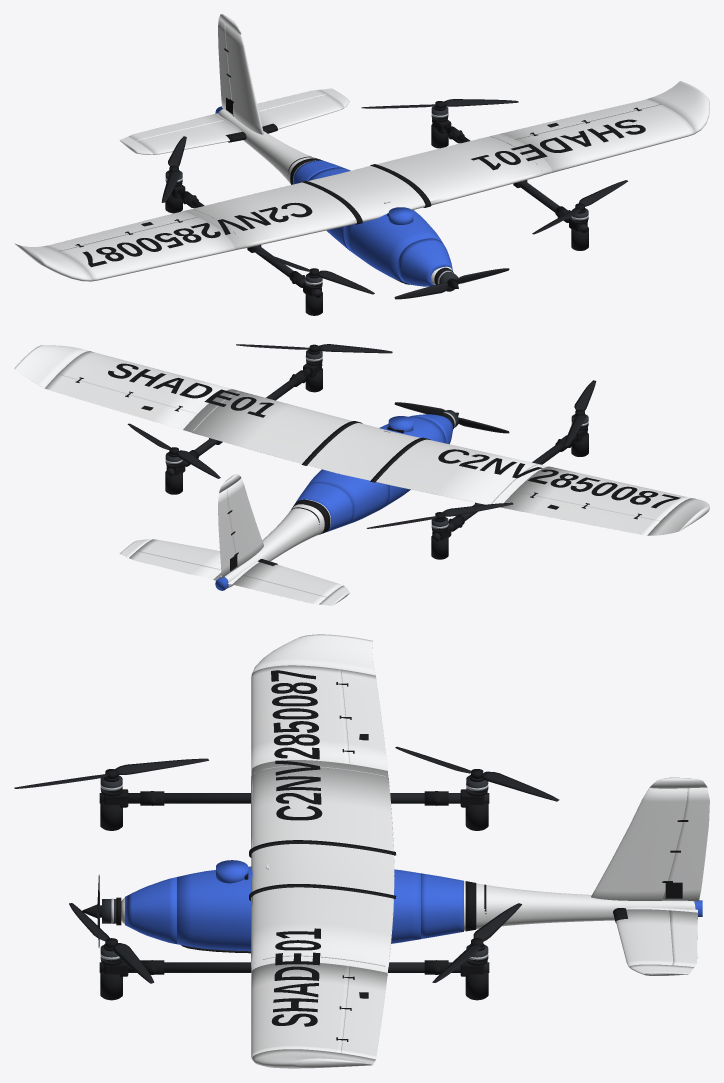
The model's file is striver.glb.
3 renders of one model, top to bottom at view 1: azimuth 30°, elevation 25°; view 2: azimuth 150°, elevation 25°; view 3: azimuth 270°, elevation 25°, orthographic. The views are drawn at different scales.
Parts seen in each view (by area): view 1: wing, wing_mid_L, wing_mid_R, bay_battery, vtail, registration, bay_head, fuselage, htail_mid_R, wing_tip_L, htail_mid_L, name (+11 smaller); view 2: wing, wing_mid_L, wing_mid_R, aileron_L, aileron_R, fuselage, registration, vtail, bay_payload, wing_tip_L, htail_mid_R, name (+12 smaller); view 3: wing, wing_mid_R, wing_mid_L, vtail, bay_battery, fuselage, registration, aileron_R, wing_tip_R, aileron_L, rudder, bay_head (+10 smaller).
Boxes of the visible parts, <box> form: wing: <box>183,134,552,250</box>; wing_mid_L: <box>515,104,694,172</box>; wing_mid_R: <box>58,217,234,281</box>; bay_battery: <box>344,210,443,282</box>; vtail: <box>225,24,263,134</box>; registration: <box>82,202,312,267</box>; bay_head: <box>215,106,452,286</box>; fuselage: <box>218,109,452,284</box>; htail_mid_R: <box>137,121,239,154</box>; wing_tip_L: <box>648,81,709,133</box>; htail_mid_L: <box>259,94,343,129</box>; name: <box>471,119,645,170</box>; wing: <box>183,389,549,504</box>; wing_mid_L: <box>58,351,232,413</box>; wing_mid_R: <box>515,466,692,520</box>; aileron_L: <box>45,374,196,429</box>; aileron_R: <box>500,491,659,535</box>; fuselage: <box>219,499,330,587</box>; registration: <box>438,449,680,508</box>; vtail: <box>227,478,263,566</box>; bay_payload: <box>307,469,389,524</box>; wing_tip_L: <box>14,345,88,388</box>; htail_mid_R: <box>243,562,342,596</box>; name: <box>108,363,273,417</box>; wing: <box>251,760,394,972</box>; wing_mid_R: <box>251,665,349,769</box>; wing_mid_L: <box>251,963,349,1057</box>; vtail: <box>591,787,687,900</box>; bay_battery: <box>177,866,252,951</box>; fuselage: <box>121,881,695,930</box>; registration: <box>271,670,322,820</box>; aileron_R: <box>341,669,387,770</box>; wing_tip_R: <box>252,634,375,675</box>; aileron_L: <box>341,966,387,1059</box>; rudder: <box>662,787,709,901</box>; bay_head: <box>125,877,702,944</box>.
Size of the model in its own units: 2.1 by 0.3858 by 1.46.
